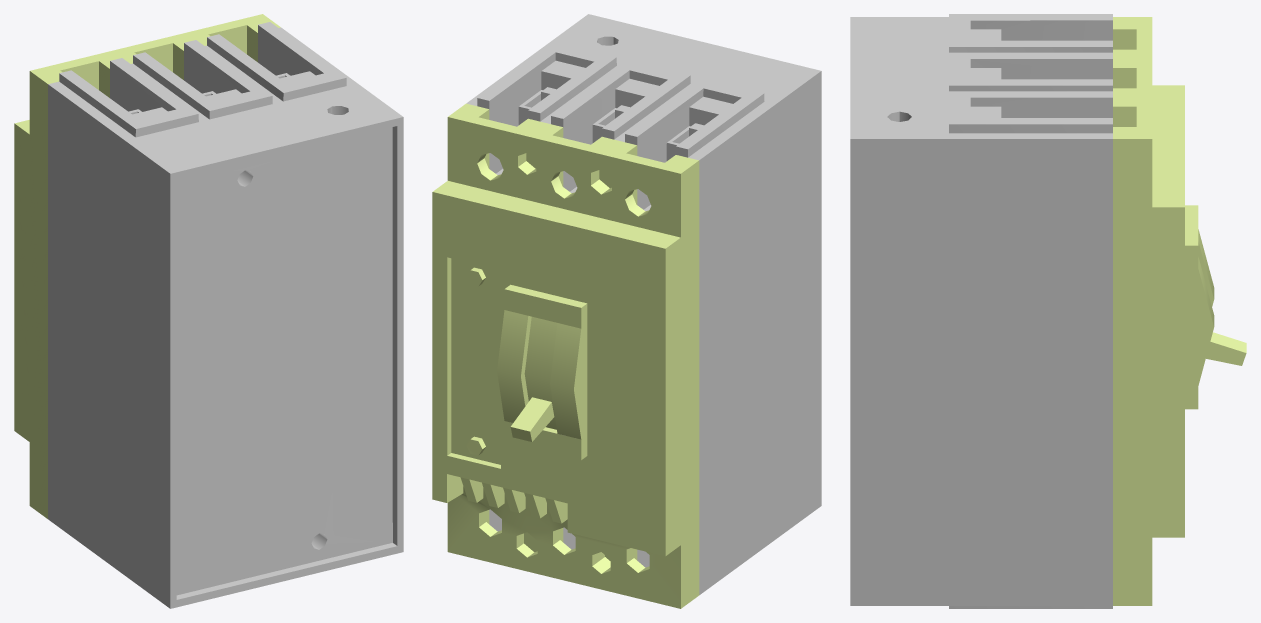
File: Автоматический_выключатель_BA13_25_3212_T3.fbx
The picture shows the model from 3 angles, left to right: view 1: azimuth 30°, elevation 25°; view 2: azimuth 150°, elevation 25°; view 3: azimuth 270°, elevation 25°; orthographic projection. The views are drawn at different scales.
Parts seen in each view (by area): view 1: BA13_25_3212_T3 (1), BA13_25_3212_T3 (2); view 2: BA13_25_3212_T3 (2), BA13_25_3212_T3 (1); view 3: BA13_25_3212_T3 (1), BA13_25_3212_T3 (2).
Boxes of the visible parts, x1=… form: BA13_25_3212_T3 (1): x1=48, y1=22, x2=403, y2=608; BA13_25_3212_T3 (2): x1=14, y1=14, x2=280, y2=518; BA13_25_3212_T3 (2): x1=432, y1=103, x2=699, y2=608; BA13_25_3212_T3 (1): x1=466, y1=14, x2=821, y2=594; BA13_25_3212_T3 (1): x1=850, y1=14, x2=1112, y2=608; BA13_25_3212_T3 (2): x1=1113, y1=17, x2=1246, y2=605.
Bounding box in the file's own units: 88 × 163 × 121.
